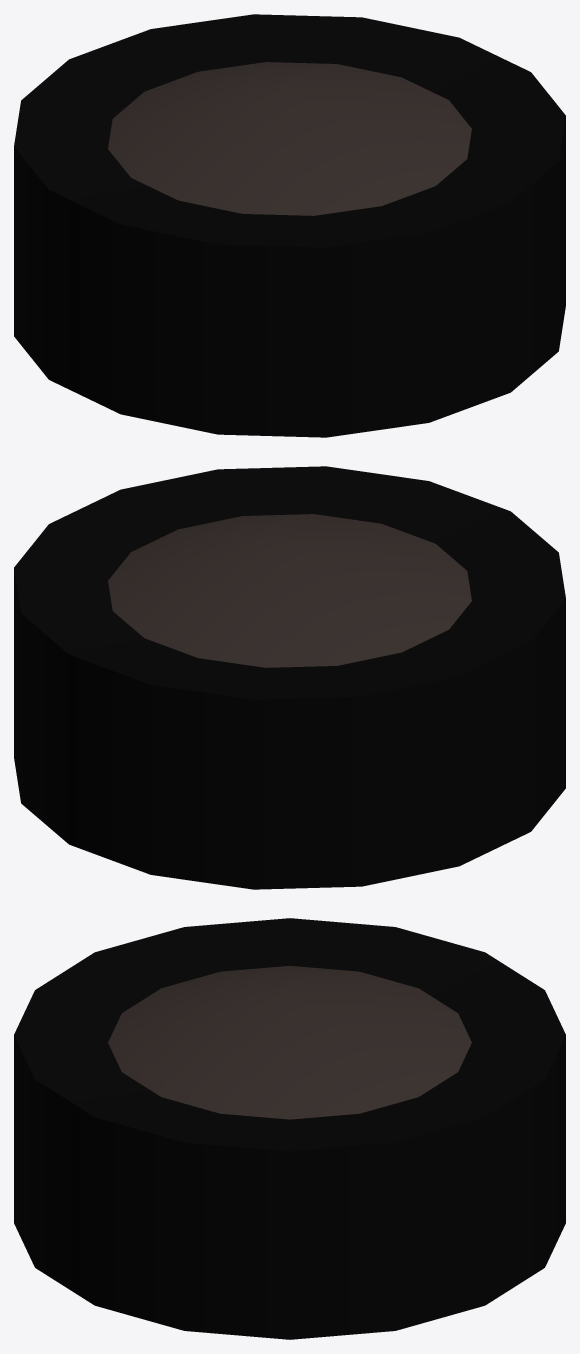
Rendered from forklift_wheel1.fbx.
3 renders of one model, top to bottom at view 1: azimuth 30°, elevation 25°; view 2: azimuth 150°, elevation 25°; view 3: azimuth 270°, elevation 25°, orthographic.
Visible parts, largest first — view 1: forklift_wheel1; view 2: forklift_wheel1; view 3: forklift_wheel1.
Boxes of the visible parts, box(x1,y1,x2,y2) form: forklift_wheel1: box(14, 14, 565, 437); forklift_wheel1: box(14, 466, 565, 889); forklift_wheel1: box(14, 918, 565, 1339).
Size of the model in its own units: 73.92 by 33.42 by 73.92.
